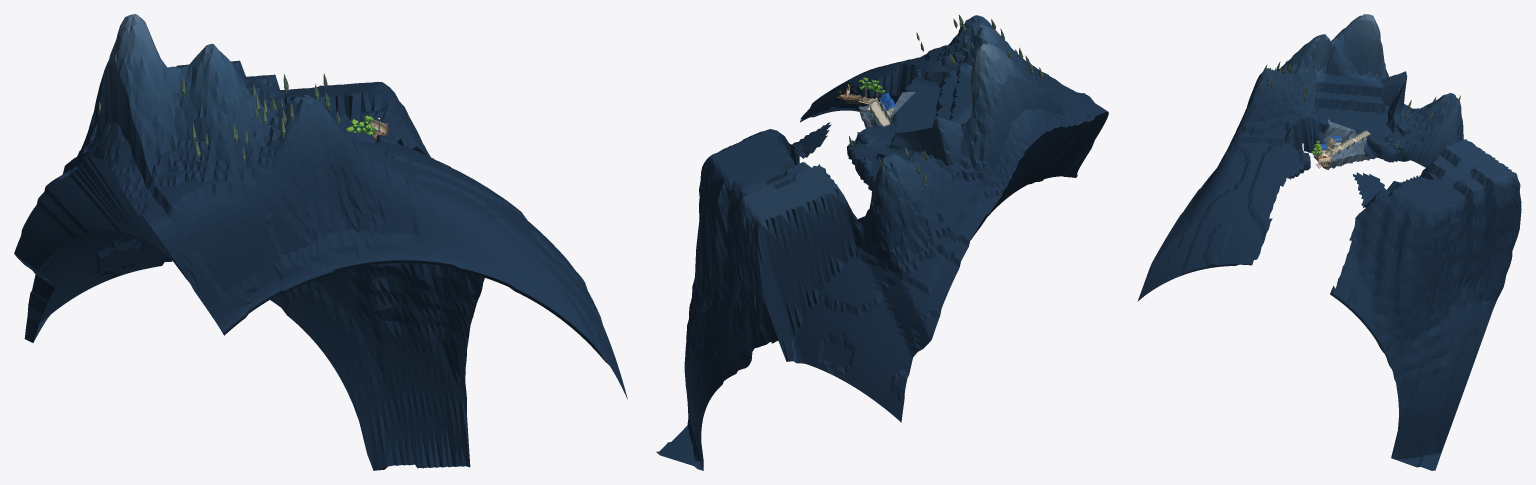
Rendered from old-harbor-ocean-grade.glb.
The picture shows the model from 3 angles, left to right: view 1: azimuth 30°, elevation 25°; view 2: azimuth 150°, elevation 25°; view 3: azimuth 270°, elevation 25°; orthographic projection. The views are drawn at different scales.
Visible parts, largest first — view 1: citadel-oskar-grid-mountain-surface, mountain-cypress-geometry; view 2: citadel-oskar-grid-mountain-surface, citadel-coastal-cliff-seal; view 3: citadel-oskar-grid-mountain-surface, citadel-coastal-cliff-seal, old-shore-blender-rock-support, citadel-old-city-support-spur.
Part boxes in pixels (x1,y1,x2,y2): citadel-oskar-grid-mountain-surface: (14,14,627,470); mountain-cypress-geometry: (98,73,340,161); citadel-oskar-grid-mountain-surface: (656,15,1108,470); citadel-coastal-cliff-seal: (782,64,920,193); citadel-oskar-grid-mountain-surface: (1137,14,1521,470); citadel-coastal-cliff-seal: (1288,111,1459,180); old-shore-blender-rock-support: (1313,137,1369,169); citadel-old-city-support-spur: (1323,119,1356,145).
Bounding box in the file's own units: 199 × 251 × 250.
91 materials, 2 textured.
